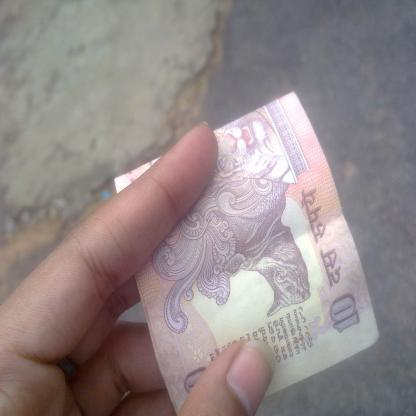Old10Back: (114, 90, 380, 416)
